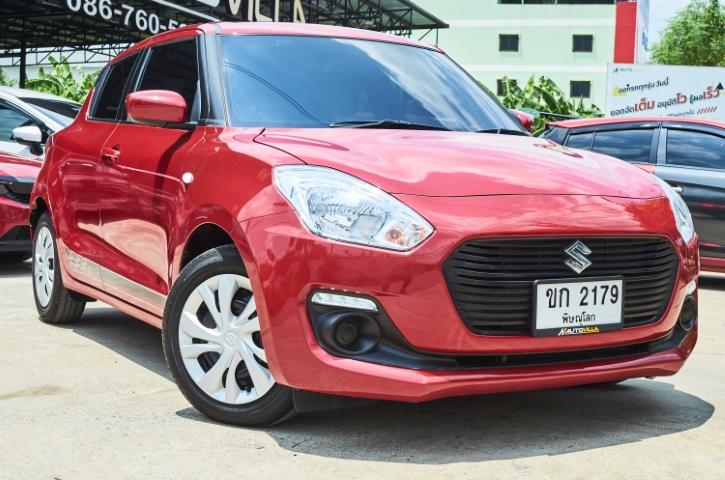license-plate: (532, 276, 626, 339)
